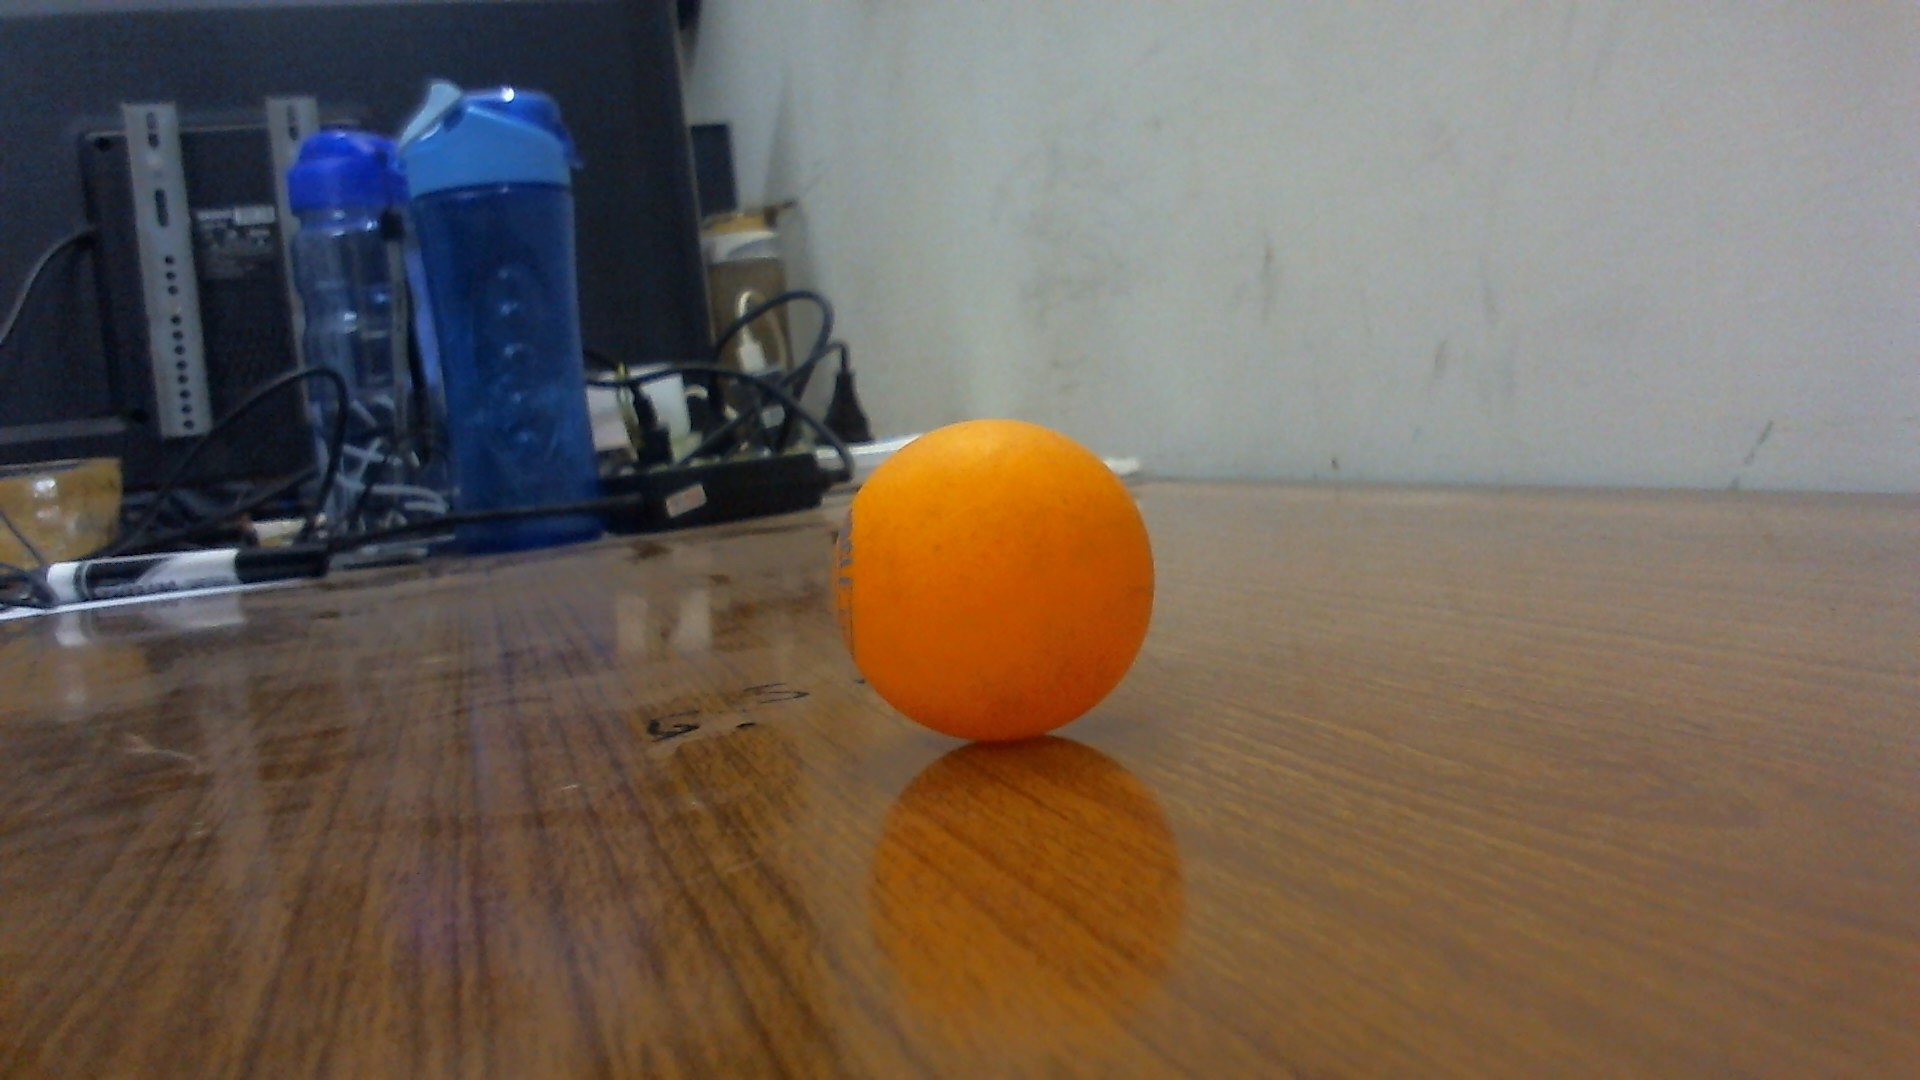ball: (829, 415, 1156, 744)
